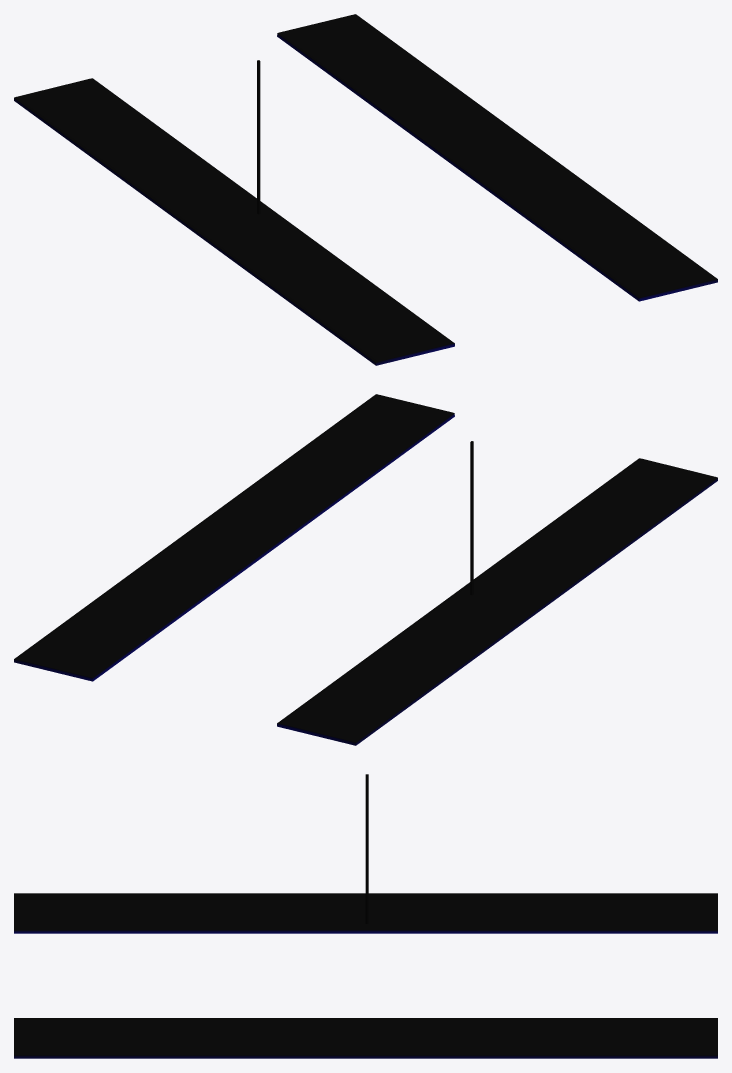
File: Street_Segment_Kerb.fbx
3 renders of one model, top to bottom at view 1: azimuth 30°, elevation 25°; view 2: azimuth 150°, elevation 25°; view 3: azimuth 270°, elevation 25°, orthographic. The views are drawn at different scales.
Visible parts, largest first — view 1: Street_Segment_Kerb; view 2: Street_Segment_Kerb; view 3: Street_Segment_Kerb.
Boxes of the visible parts, x1,y1,x2,y2 form: Street_Segment_Kerb: (14, 14, 717, 365); Street_Segment_Kerb: (14, 394, 717, 745); Street_Segment_Kerb: (14, 774, 717, 1058).
Size of the model in its own units: 15.21 by 6.65 by 27.9.
